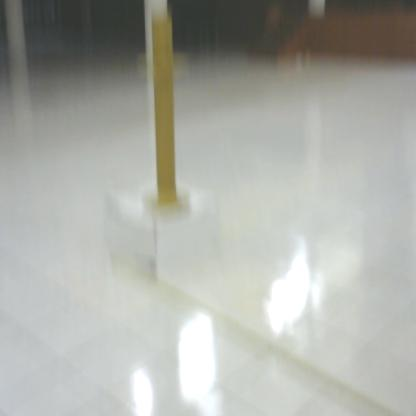pole: (136, 3, 207, 225)
